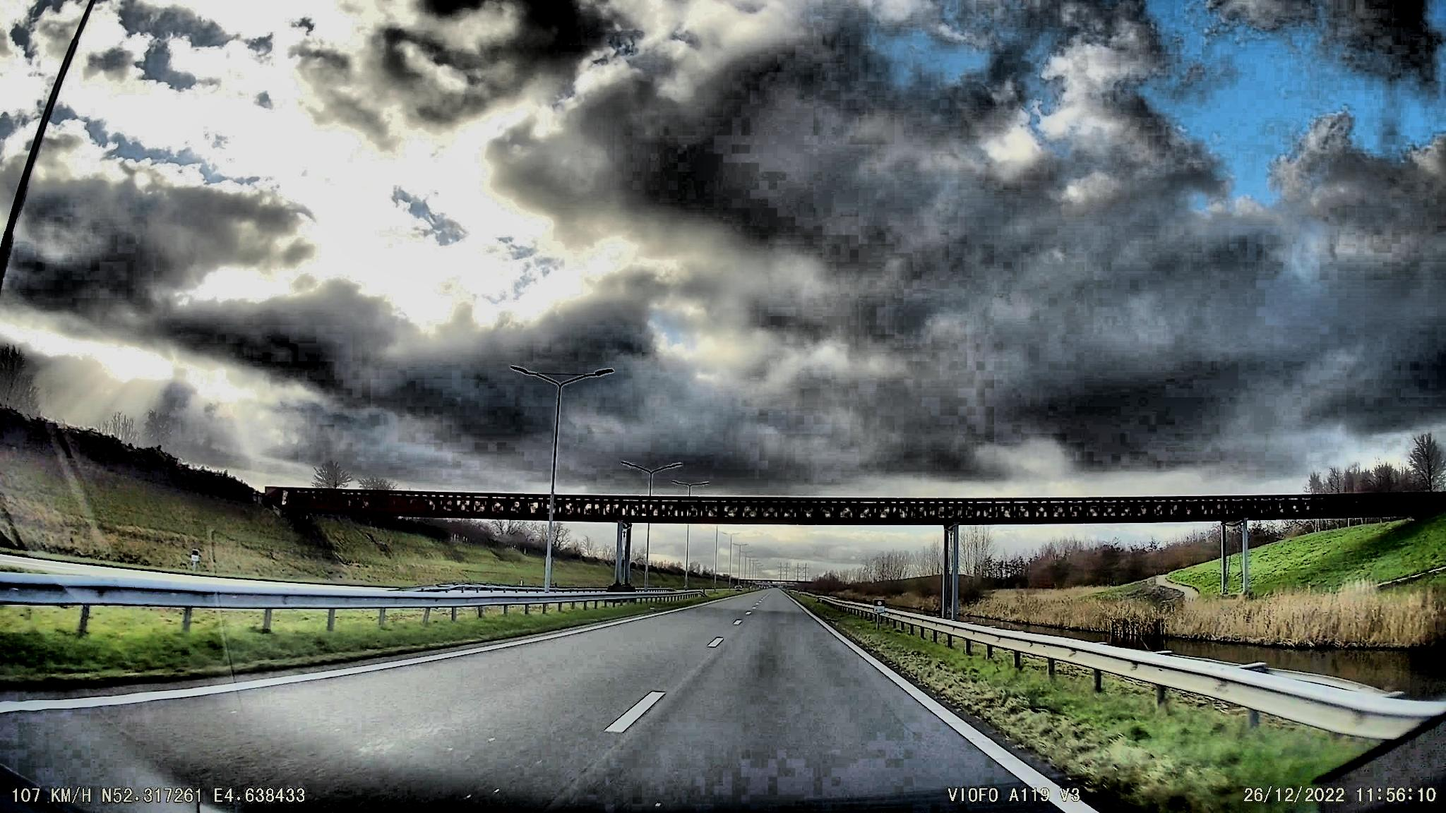Roads: (0, 588, 1101, 813)
